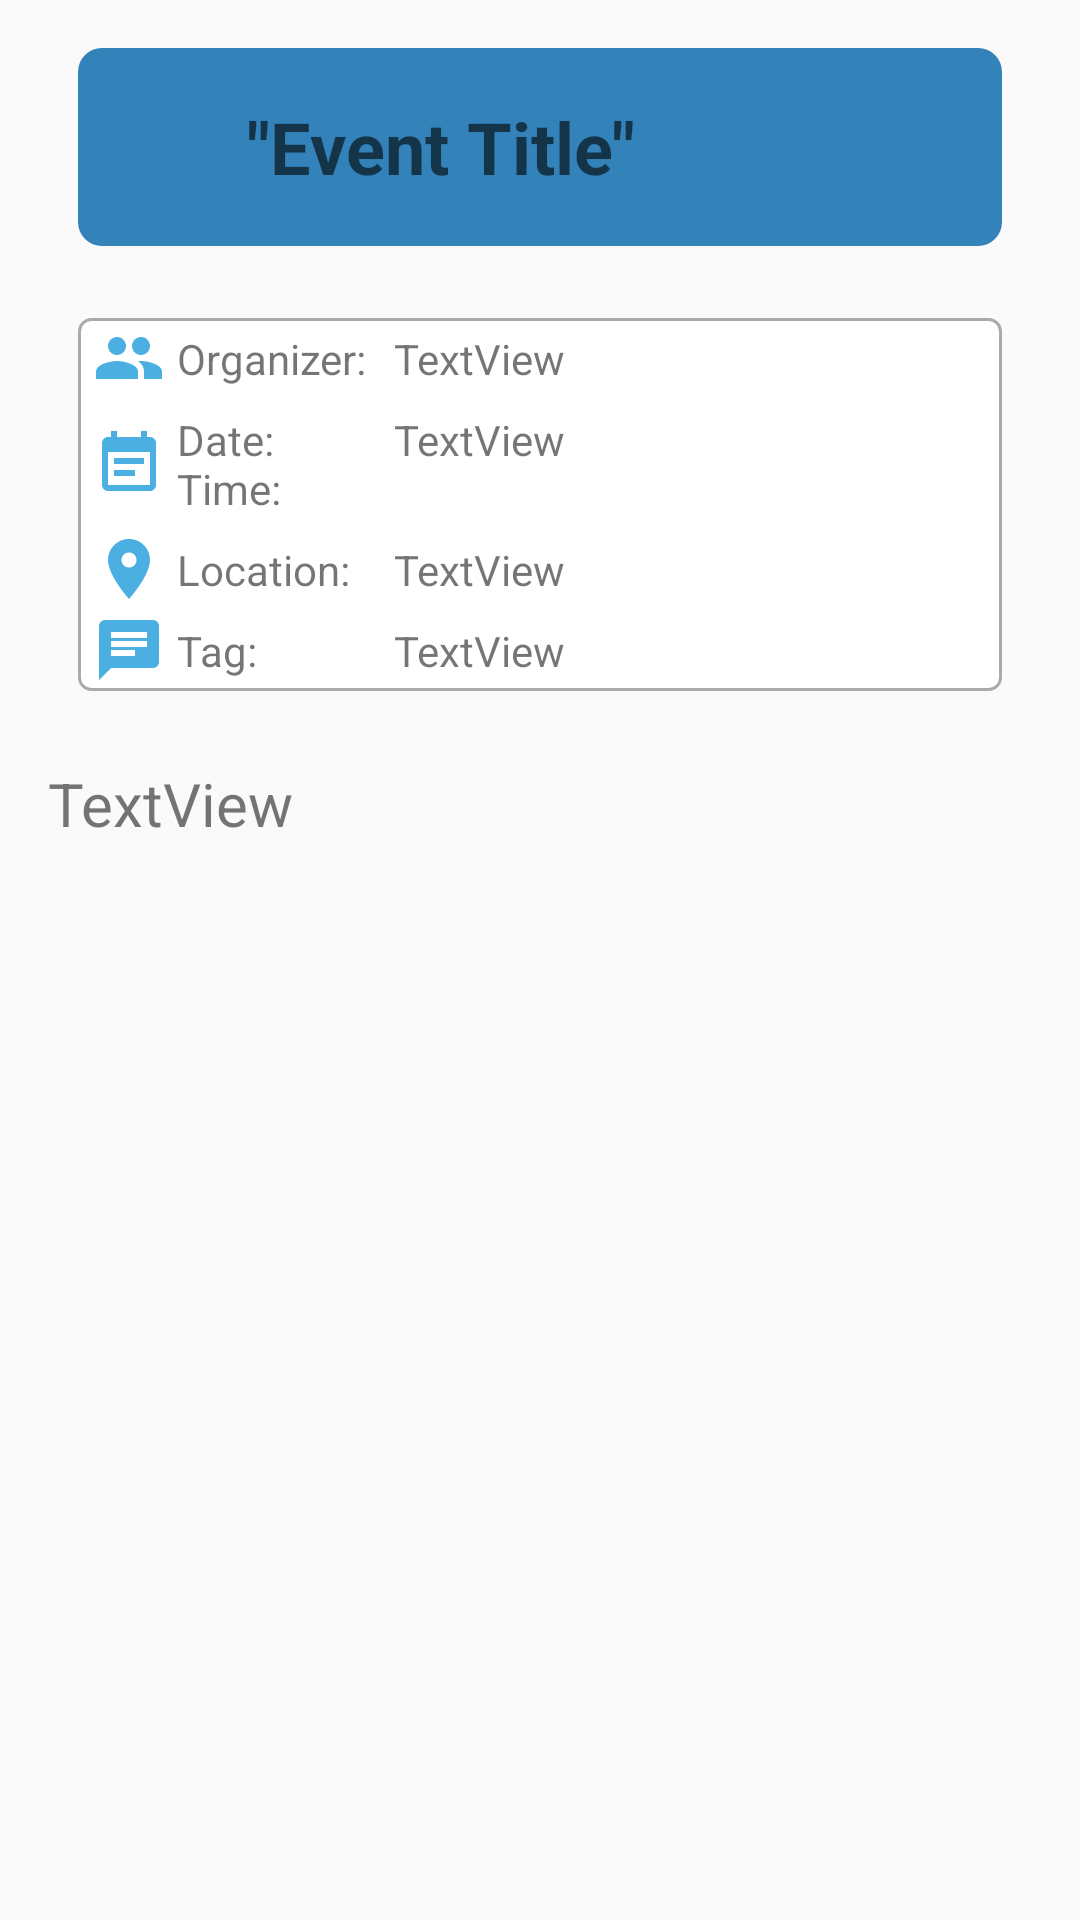

Named icons in this screenshot (1080w x 1920h) and their bounding boxes, (x1, y1, x2, y2):
chat: (99, 620, 159, 680)
event note: (102, 431, 156, 491)
place: (108, 539, 150, 599)
